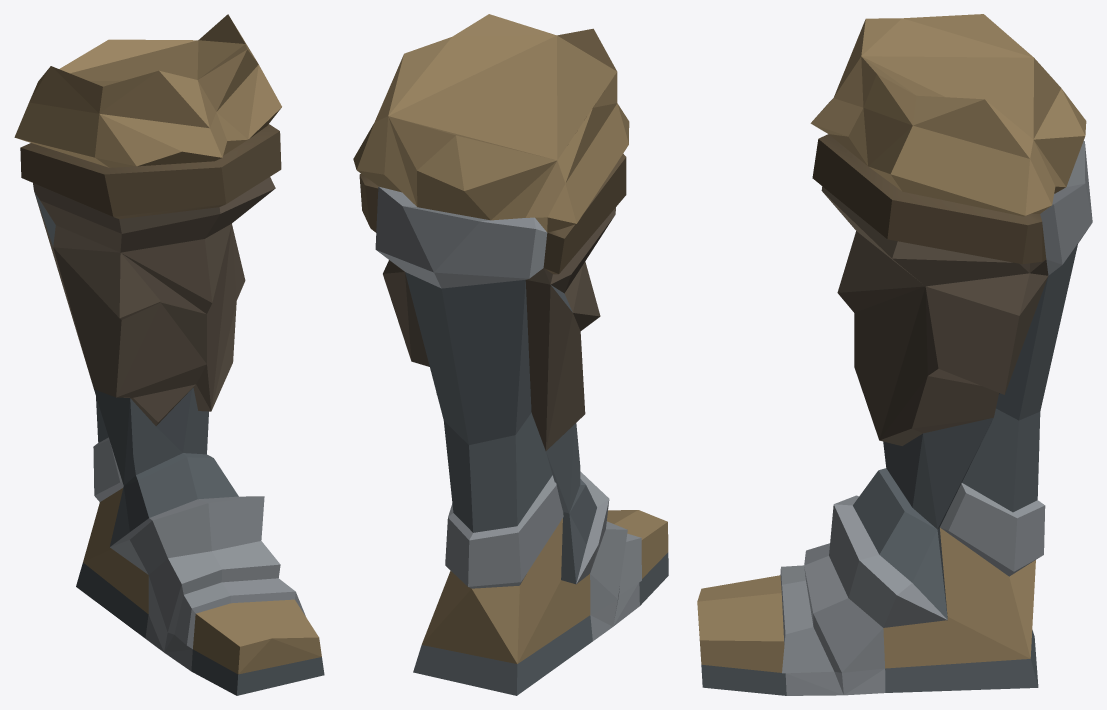
Rendered from Chr_LegLeft_Female_05_Static.fbx.
The picture shows the model from 3 angles, left to right: view 1: azimuth 30°, elevation 25°; view 2: azimuth 150°, elevation 25°; view 3: azimuth 270°, elevation 25°; orthographic projection. The views are drawn at different scales.
Parts seen in each view (by area): view 1: Chr_LegLeft_Female_05_Static; view 2: Chr_LegLeft_Female_05_Static; view 3: Chr_LegLeft_Female_05_Static.
Boxes of the visible parts, x1,y1,x2,y2 form: Chr_LegLeft_Female_05_Static: (14,14,324,695); Chr_LegLeft_Female_05_Static: (353,14,668,695); Chr_LegLeft_Female_05_Static: (697,14,1092,695).
Size of the model in its own units: 0.166 by 0.4165 by 0.2404.
